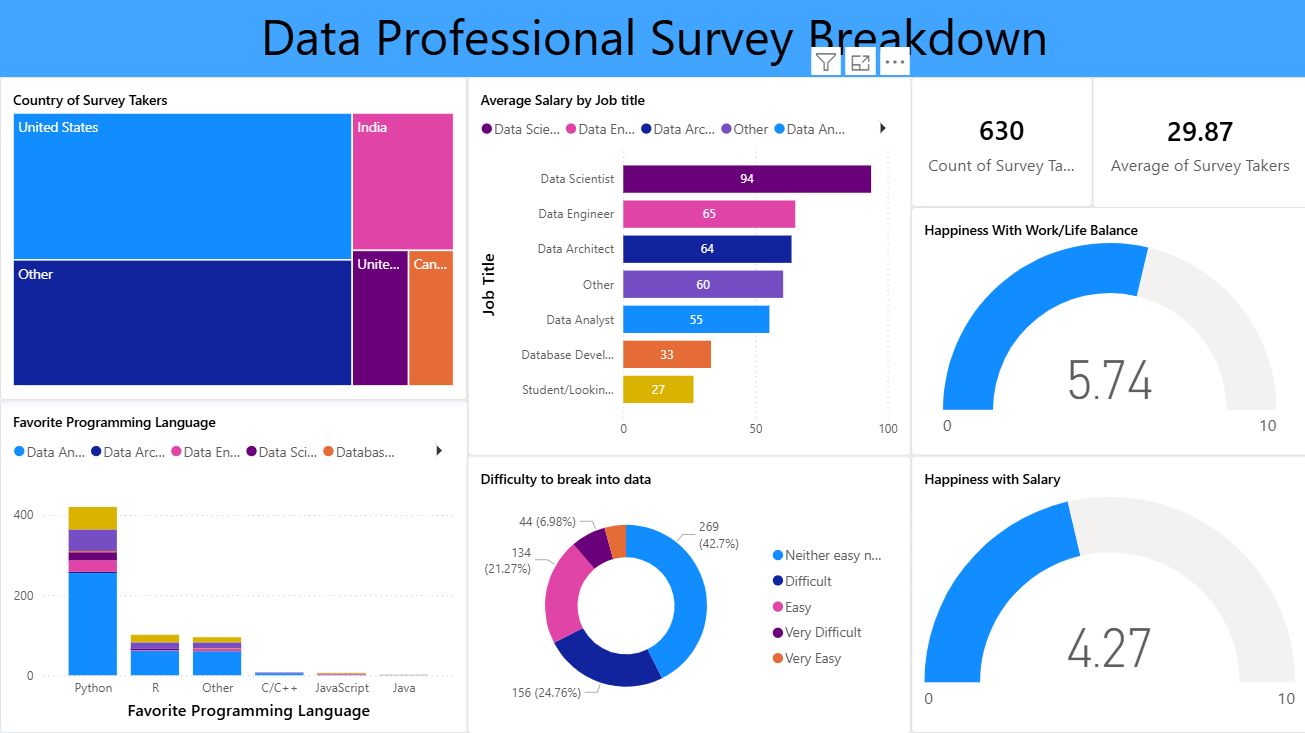

Layout of this report page (visuals, bound fields, positions):
{"tool":"powerbi","page":{"name":"Page 1","canvas":[1280,720],"ordinal":0},"visuals":[{"type":"textbox","box":[0,0,1280.3,78.2],"z":0},{"type":"card","fields":{"Values":["Count(Data Professional Survey.Unique ID)"]},"box":[891.4,78.3,177.3,127.2],"z":1000},{"type":"card","fields":{"Values":["Avg(Data Professional Survey.Q10 - Current Age)"]},"box":[1069,78.2,211.3,127.6],"z":2000},{"type":"barChart","title":"Average Salary by Job title","fields":{"Category":["Data Professional Survey.Q1 - Which Title Best Fits your Current Role?.1"],"Y":["Avg(Data Professional Survey.Average Salary)"],"Series":["Data Professional Survey.Q1 - Which Title Best Fits your Current Role?.1"]},"box":[457.3,78.3,434.1,370.5],"z":3000},{"type":"columnChart","title":"Favorite Programming Language","fields":{"Category":["Data Professional Survey.Q5 - Favorite Programming Language.1"],"Y":["CountNonNull(Data Professional Survey.Unique ID)"],"Series":["Data Professional Survey.Q1 - Which Title Best Fits your Current Role?.1"]},"box":[0,393.8,457.3,326.5],"z":4000},{"type":"treemap","title":"Country of Survey Takers","fields":{"Group":["Data Professional Survey.Q11 - Which Country do you live in?.1"],"Values":["CountNonNull(Data Professional Survey.Q11 - Which Country do you live in?.1)"]},"box":[0,78.2,456.9,315.6],"z":5000},{"type":"gauge","title":"Happiness With Work/Life Balance ","fields":{"Y":["Avg(Data Professional Survey.Q6 - How Happy are you in your Current Position with the following? (Work/Life Balance))"],"MinValue":["Min(Data Professional Survey.Q6 - How Happy are you in your Current Position with the following? (Work/Life Balance))1"],"MaxValue":["Max(Data Professional Survey.Q6 - How Happy are you in your Current Position with the following? (Work/Life Balance))2"]},"box":[891.4,205.4,388.9,243.3],"z":6000},{"type":"gauge","title":"Happiness with Salary","fields":{"Y":["Avg(Data Professional Survey.Q6 - How Happy are you in your Current Position with the following? (Salary))"],"MinValue":["Min(Data Professional Survey.Q6 - How Happy are you in your Current Position with the following? (Salary))"],"MaxValue":["Max(Data Professional Survey.Q6 - How Happy are you in your Current Position with the following? (Salary))1"]},"box":[891.4,448.8,388.9,271.5],"z":7000},{"type":"donutChart","title":"Difficulty to break into data","fields":{"Category":["Data Professional Survey.Q7 - How difficult was it for you to break into Data?"],"Y":["CountNonNull(Data Professional Survey.Q7 - How difficult was it for you to break into Data?)"]},"box":[456.9,448.7,433.6,271.7],"z":8000}]}

Visuals, with their boxes in screenshot pixels (x1, y1, x2, y2), scaled from the page's 1280x720 canvas onto the 1305x733 screenshot:
textbox: {"x1": 0, "y1": 0, "x2": 1304, "y2": 80}
card - Count(Data Professional Survey.Unique ID): {"x1": 909, "y1": 80, "x2": 1090, "y2": 209}
card - Avg(Data Professional Survey.Q10 - Current Age): {"x1": 1090, "y1": 80, "x2": 1304, "y2": 210}
"Average Salary by Job title" barChart: {"x1": 466, "y1": 80, "x2": 909, "y2": 457}
"Favorite Programming Language" columnChart: {"x1": 0, "y1": 401, "x2": 466, "y2": 732}
"Country of Survey Takers" treemap: {"x1": 0, "y1": 80, "x2": 466, "y2": 401}
"Happiness With Work/Life Balance " gauge: {"x1": 909, "y1": 209, "x2": 1304, "y2": 457}
"Happiness with Salary" gauge: {"x1": 909, "y1": 457, "x2": 1304, "y2": 732}
"Difficulty to break into data" donutChart: {"x1": 466, "y1": 457, "x2": 908, "y2": 732}
